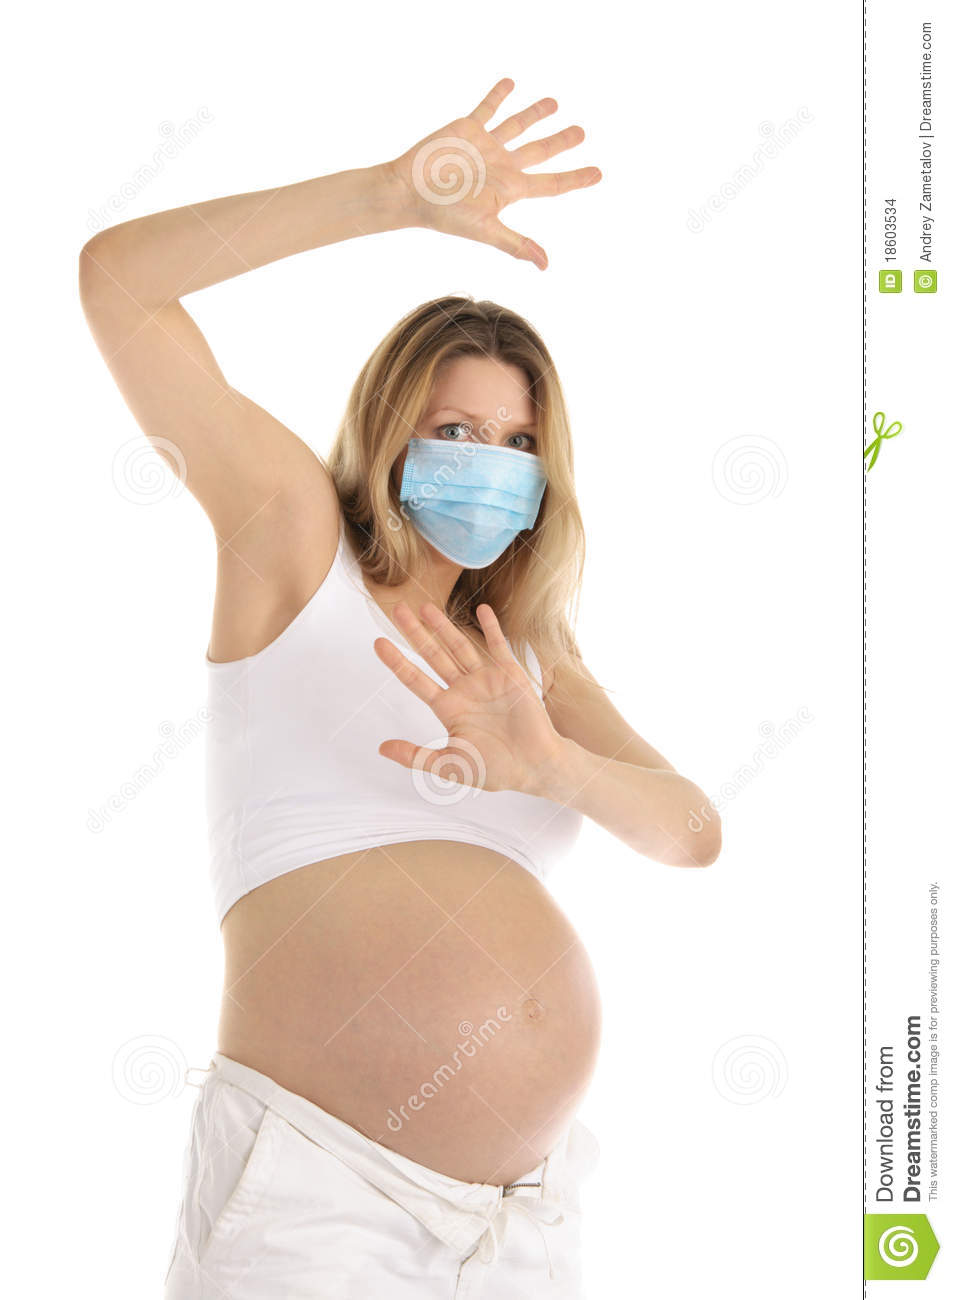mask: (392, 441, 550, 580)
